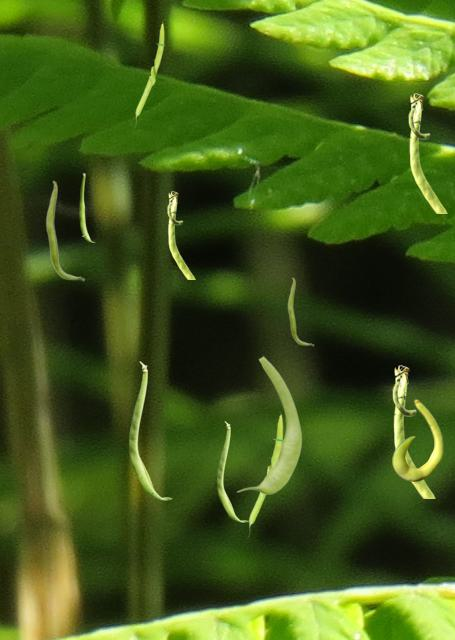french_bean: (236, 355, 301, 493), (129, 361, 171, 499), (392, 365, 434, 497), (247, 412, 283, 538), (408, 93, 446, 212), (392, 399, 442, 480), (45, 180, 84, 280), (134, 21, 164, 127), (217, 421, 247, 521), (167, 191, 194, 278), (287, 277, 313, 345), (79, 173, 94, 241)
